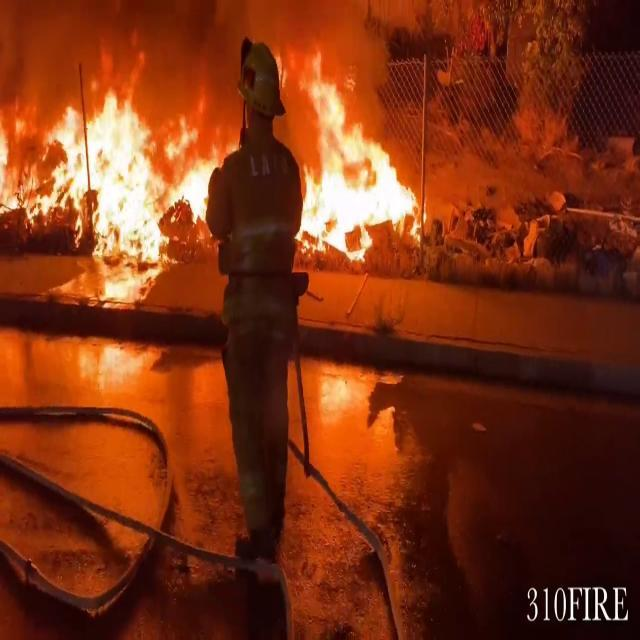Fire: (0, 74, 216, 260), (286, 57, 432, 266)
